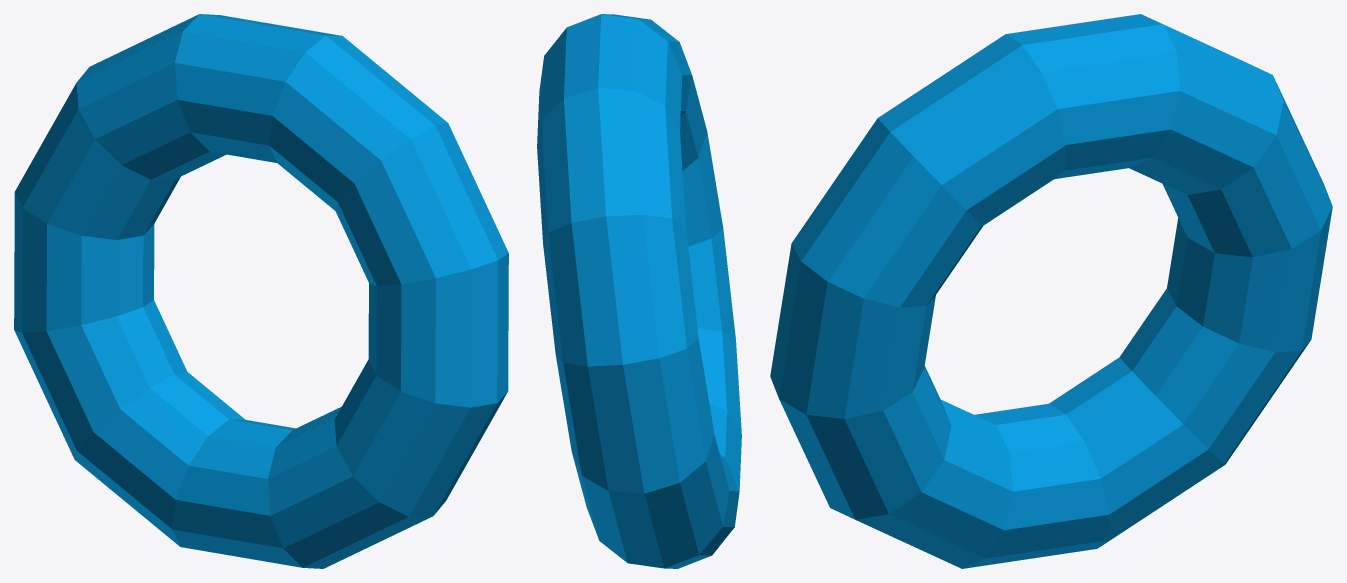
Rendered from astronaut_spawn_group745840913_lev4.glb.
3 views of the same model, side by side, from view 1: azimuth 30°, elevation 25°; view 2: azimuth 150°, elevation 25°; view 3: azimuth 270°, elevation 25° (orthographic). The views are drawn at different scales.
Visible parts, largest first — view 1: astronaut_spawn_group745840913_lev4; view 2: astronaut_spawn_group745840913_lev4; view 3: astronaut_spawn_group745840913_lev4.
Boxes of the visible parts, <box> form: astronaut_spawn_group745840913_lev4: <box>14,14,508,568</box>; astronaut_spawn_group745840913_lev4: <box>537,14,741,568</box>; astronaut_spawn_group745840913_lev4: <box>770,14,1332,568</box>.
Bounding box in the file's own units: 0.0423 × 0.067 × 0.0625.
